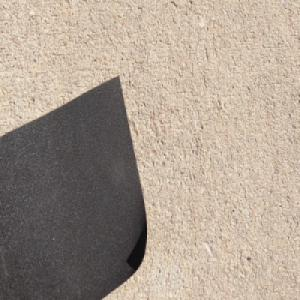PaintChip: (0, 67, 157, 300)
